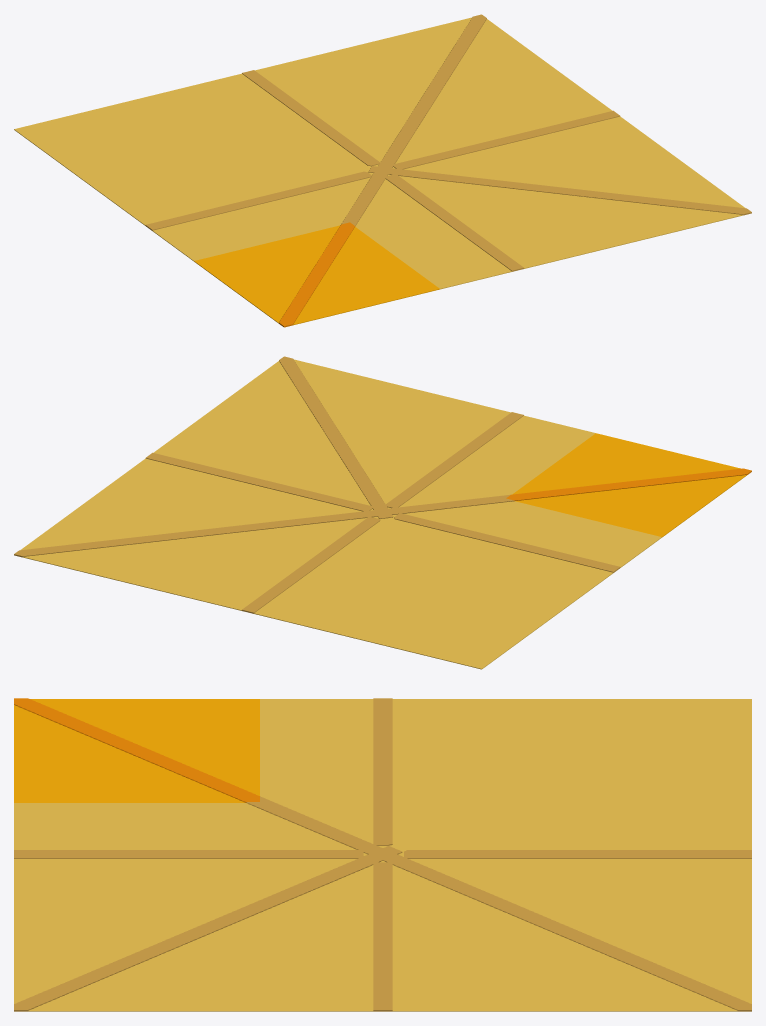
The model's file is map.fbx.
3 views of the same model, one above another, from view 1: azimuth 30°, elevation 25°; view 2: azimuth 150°, elevation 25°; view 3: azimuth 270°, elevation 25° (orthographic). The views are drawn at different scales.
Parts seen in each view (by area): view 1: shadow-0.004; view 2: shadow-0.004; view 3: shadow-0.004.
Part boxes in pixels (bbox=[...]): shadow-0.004: bbox=[14, 14, 751, 327]; shadow-0.004: bbox=[14, 356, 751, 669]; shadow-0.004: bbox=[14, 698, 751, 1011].
Size of the model in its own units: 7680 by 20 by 7680.
